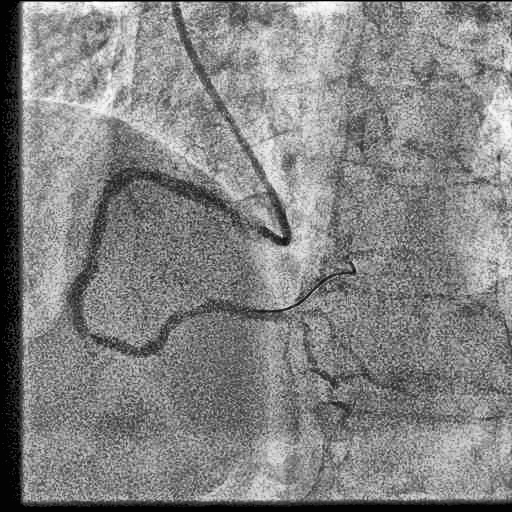pda: (293, 316, 336, 391)
rca: (67, 167, 291, 358)
